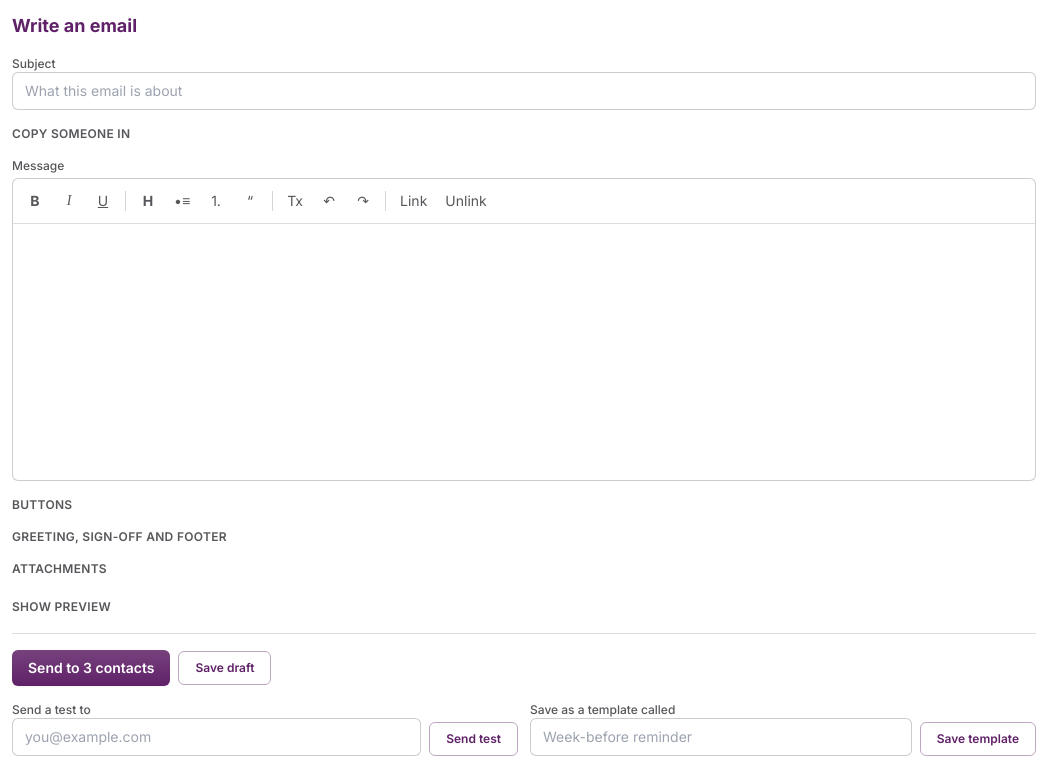
Test: what the server says › reports a failure without claiming success
Step 1. Click the button "Send to 3 contacts" → x=91, y=668, box [12,650,170,686]
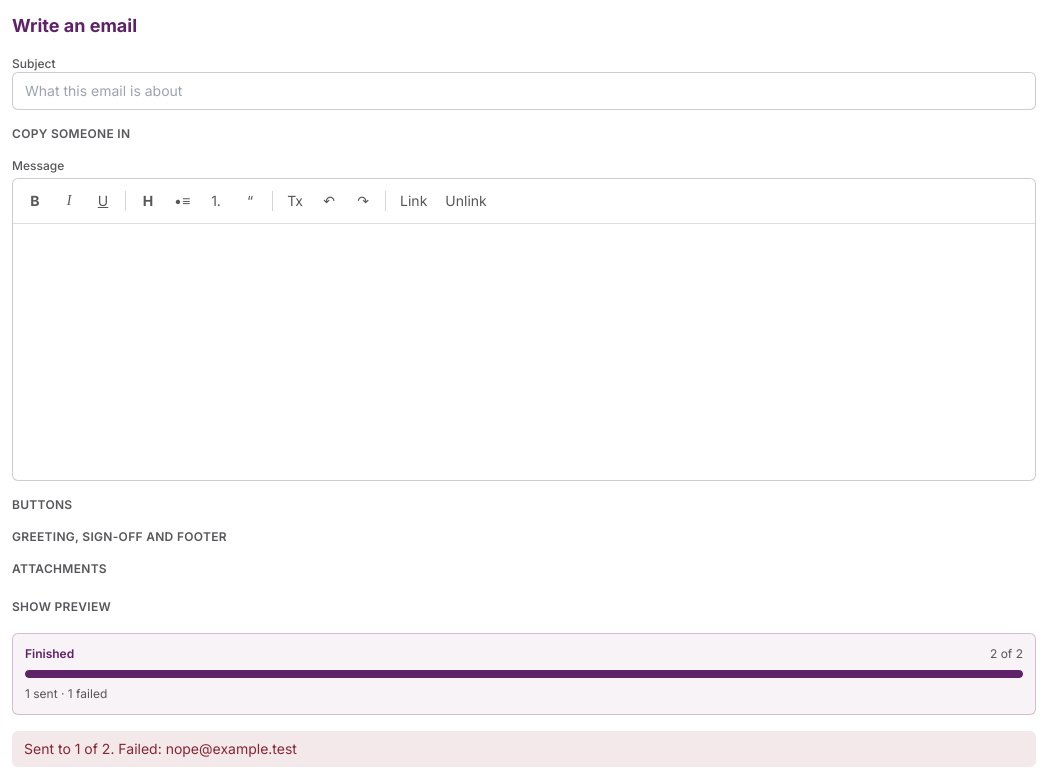
Expected: the message with test id "composer-notice" shows "nope@example.test", [24,740,297,757]
